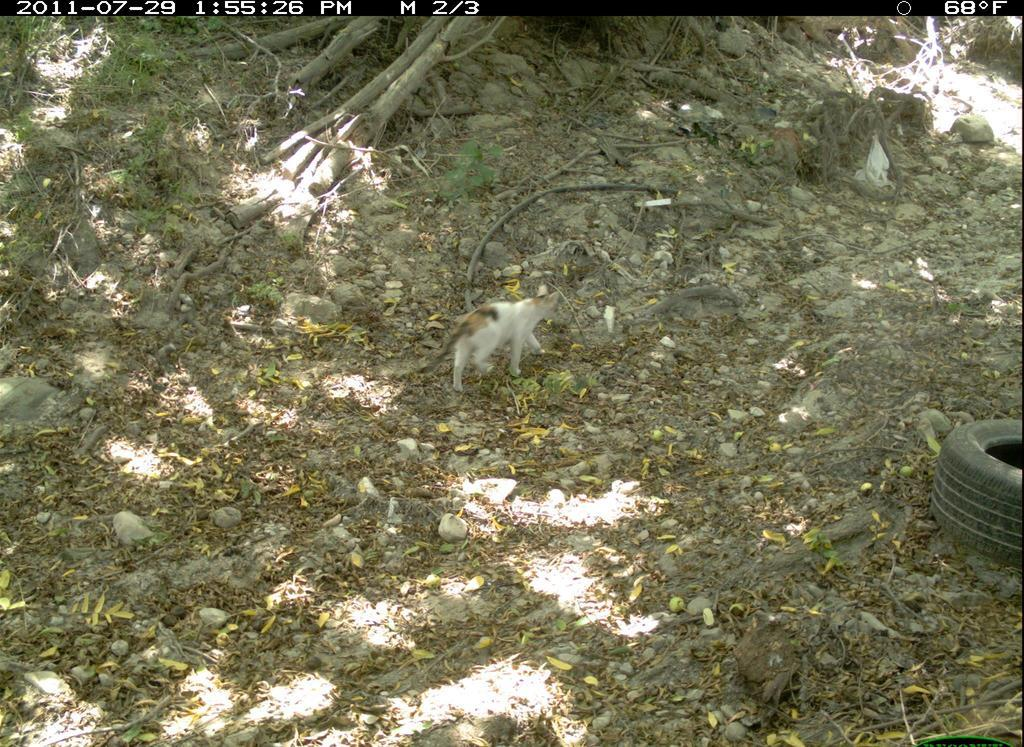cat: (422, 285, 564, 392)
